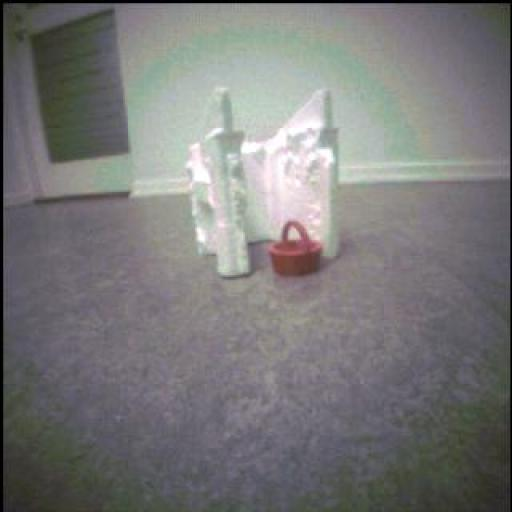Bucket: (270, 222, 323, 276)
